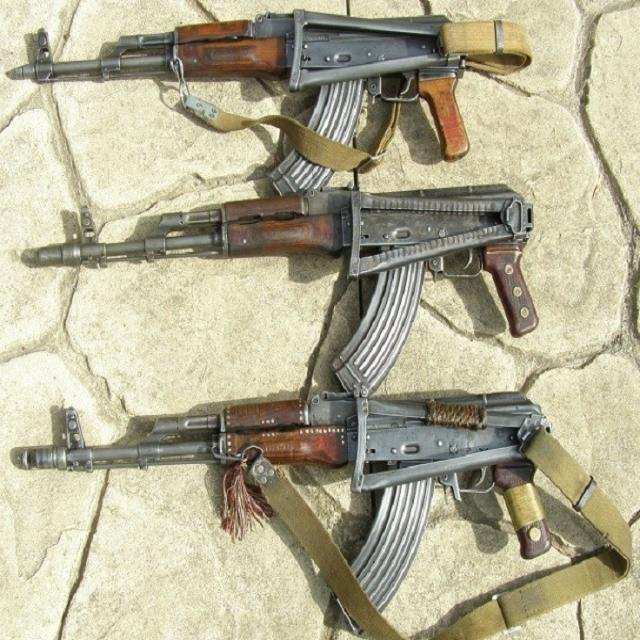ak: (13, 390, 562, 638), (31, 179, 548, 393), (10, 13, 482, 184)
